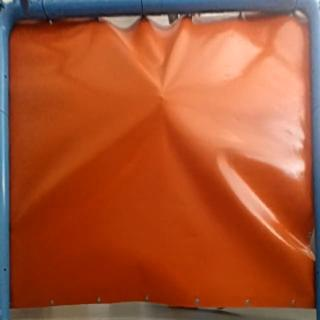Hit-hRxx: (152, 88, 169, 104)
